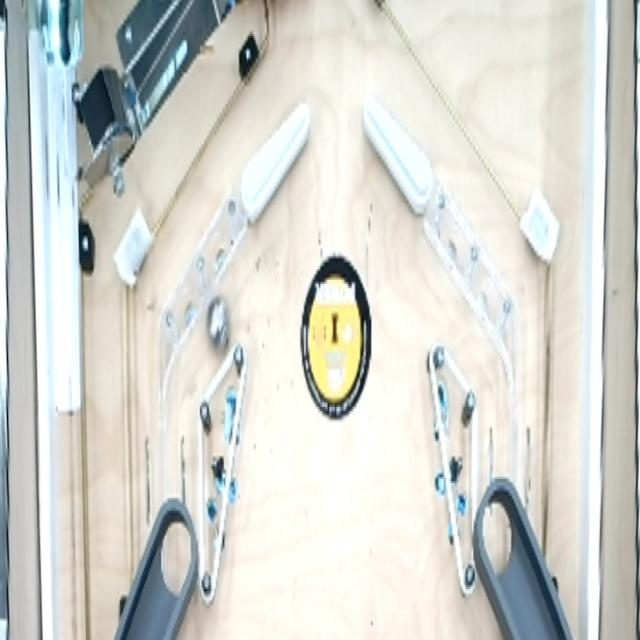ball: (202, 297, 235, 357)
flipper-left: (359, 94, 438, 228)
flipper-right: (237, 98, 312, 245)
